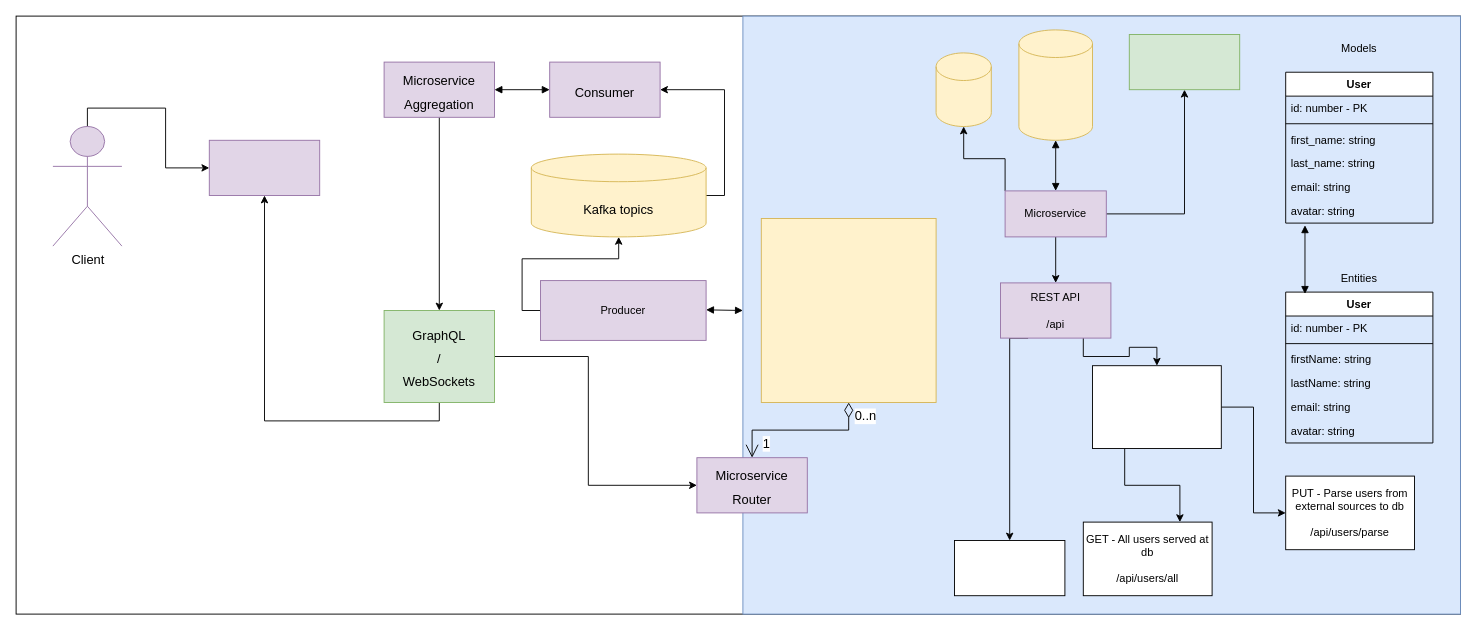
Image size: 1477x630. Some labels were removed from this diagram. Here are the shapes that lost their labels. From the top down, the box of each, then its label:
(1128, 34, 1240, 90): SWAGGER /api/swagger
(935, 52, 991, 126): logger
(1018, 29, 1092, 140): Database
(208, 139, 320, 196): Frontend
(760, 218, 936, 402): Microservice per task (vision, voice, data process, auth)
(1092, 365, 1221, 448): Business layer - Users /api/users Entity - User, Model - User
(954, 540, 1065, 596): GET - Endpoints /api/endpoints
